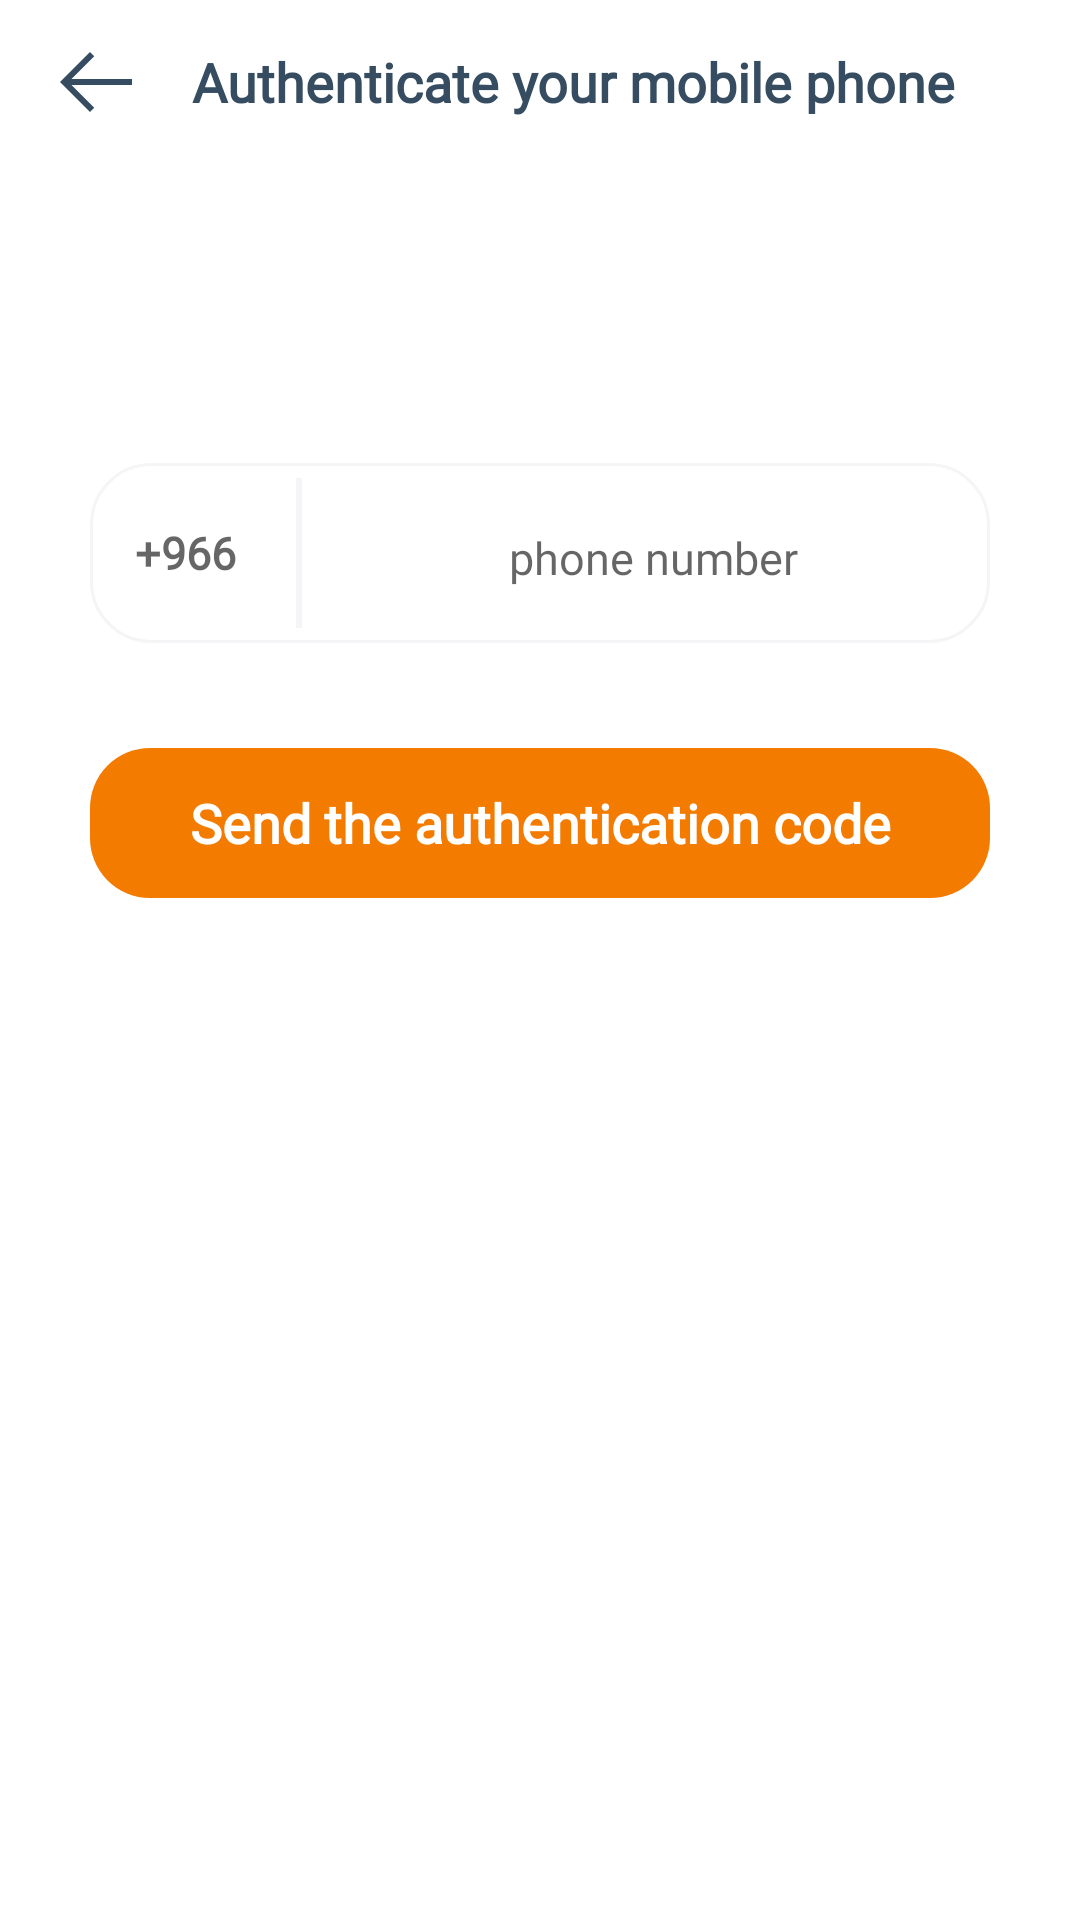

Named icons in this screenshot (1080 x 1920) and their centers, point (x, y):
back: point (96, 82)
